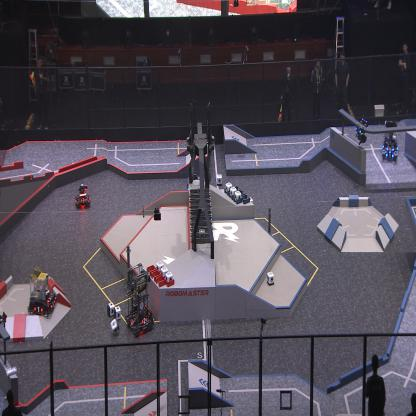car: (125, 261, 154, 335), (26, 266, 58, 320), (185, 173, 206, 200), (380, 129, 398, 160), (74, 183, 91, 208)
